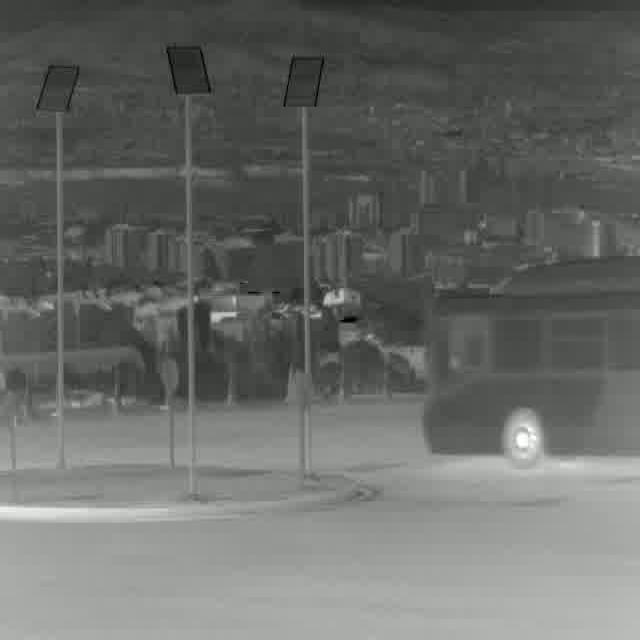Bus: (424, 255, 640, 462)
